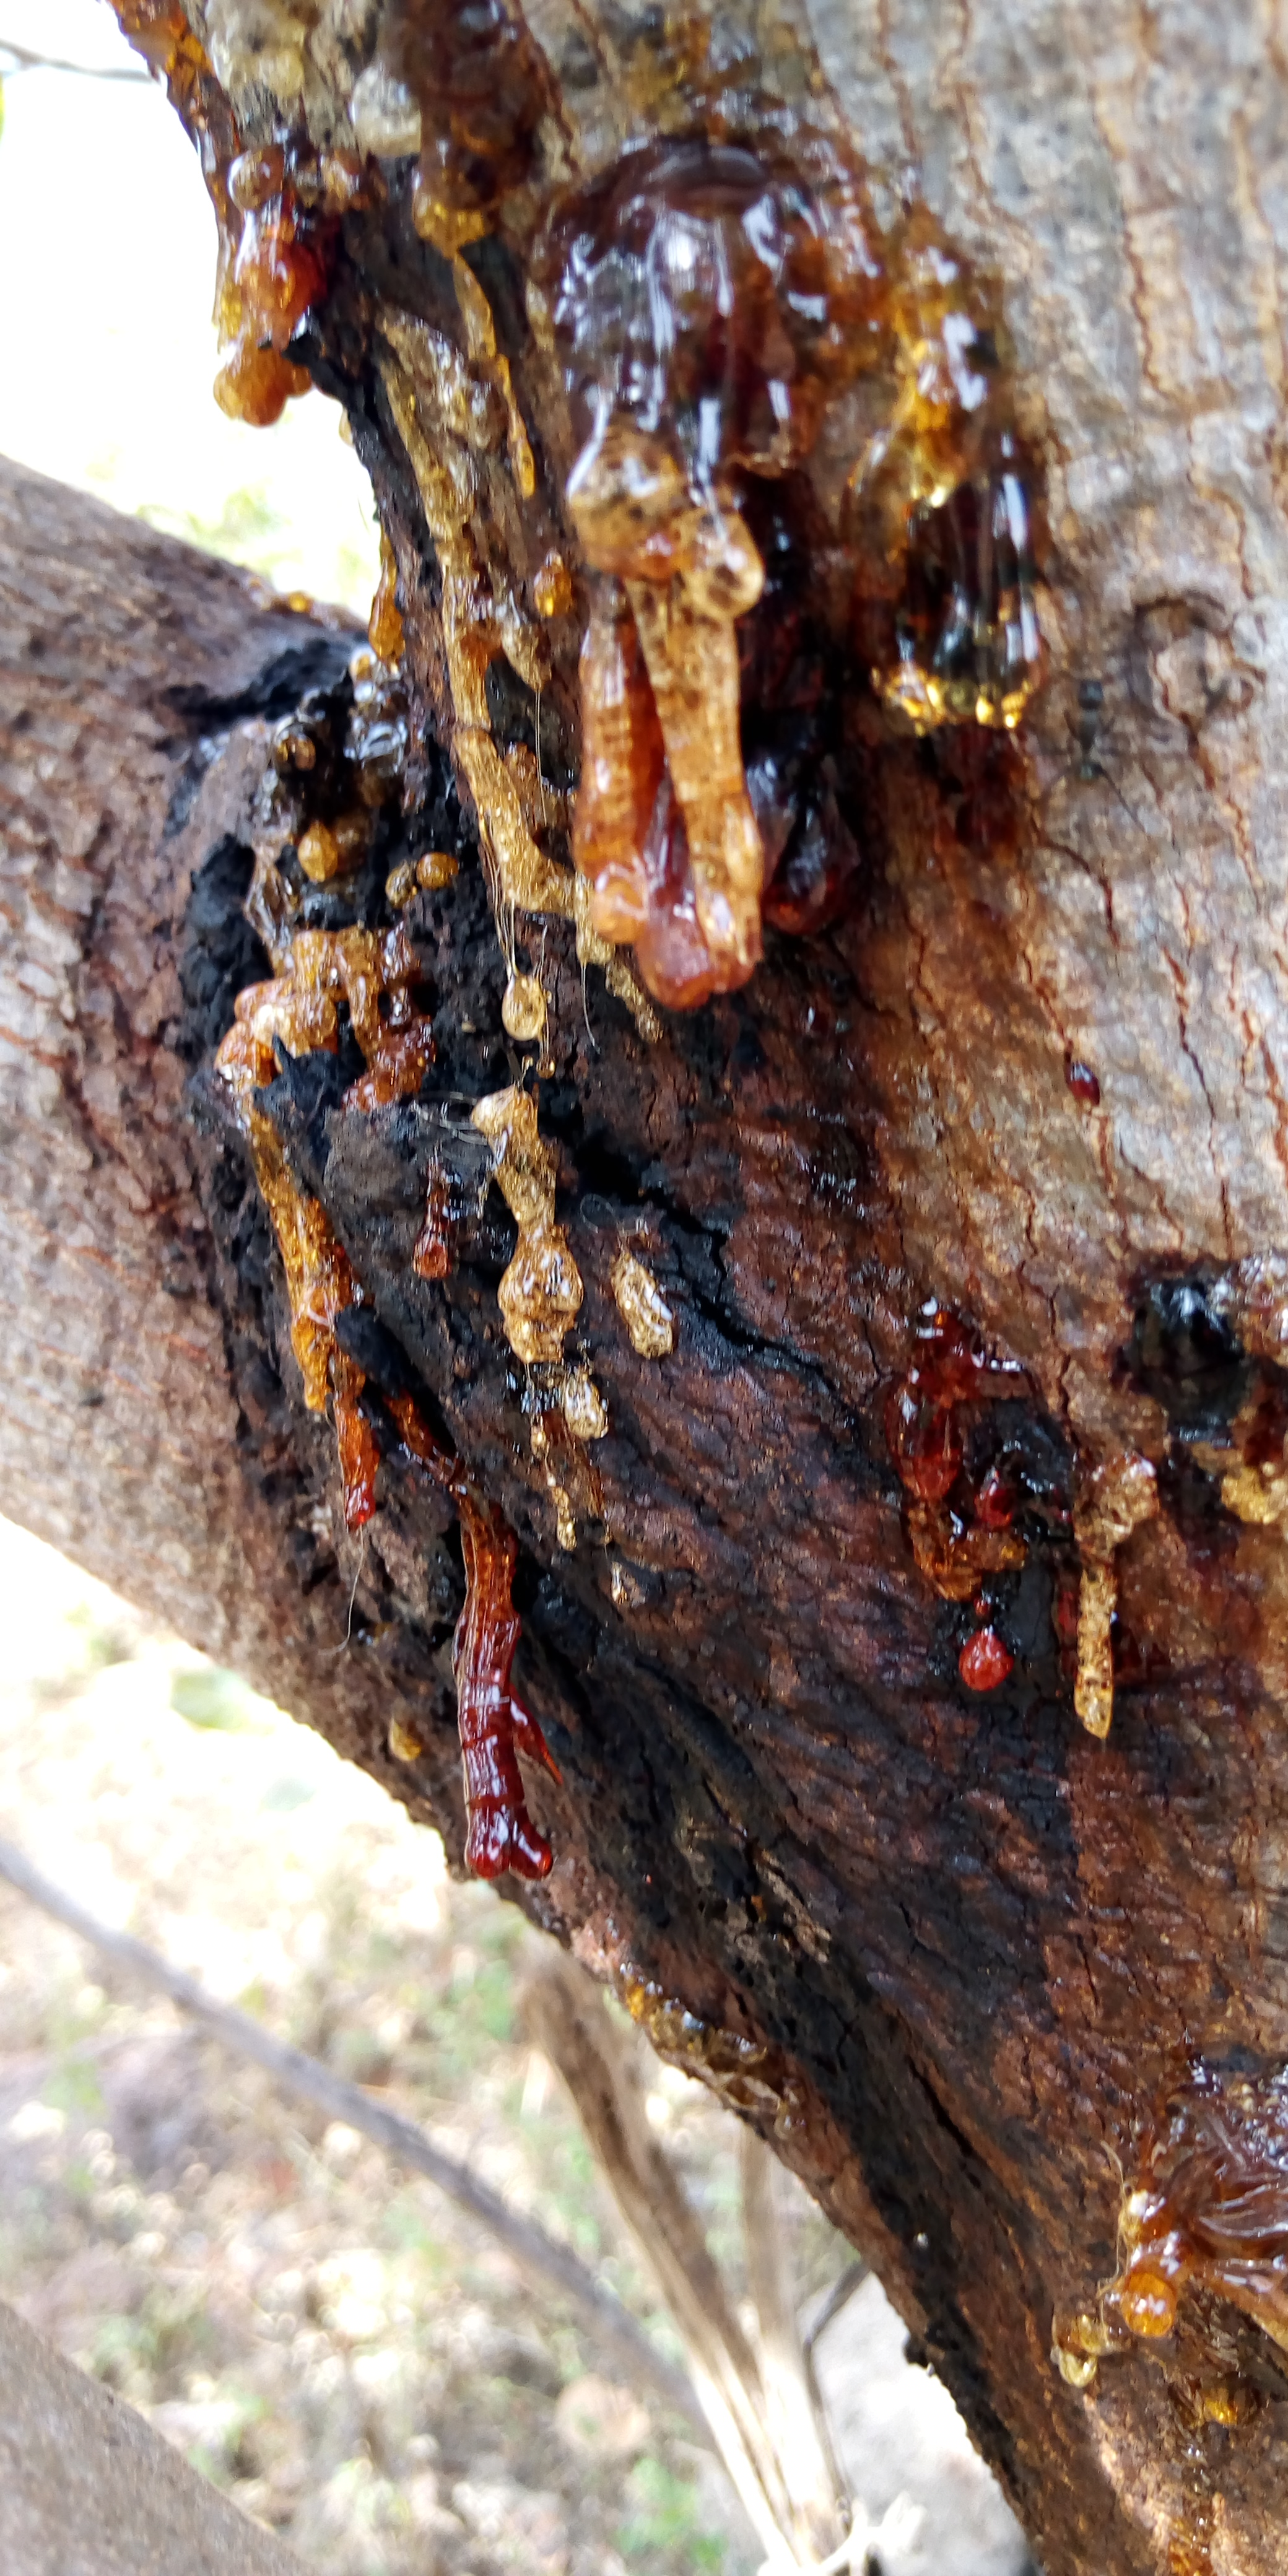Gommose: (172, 734, 862, 1916), (925, 1198, 1288, 2402), (560, 123, 1056, 715), (172, 13, 544, 421)
